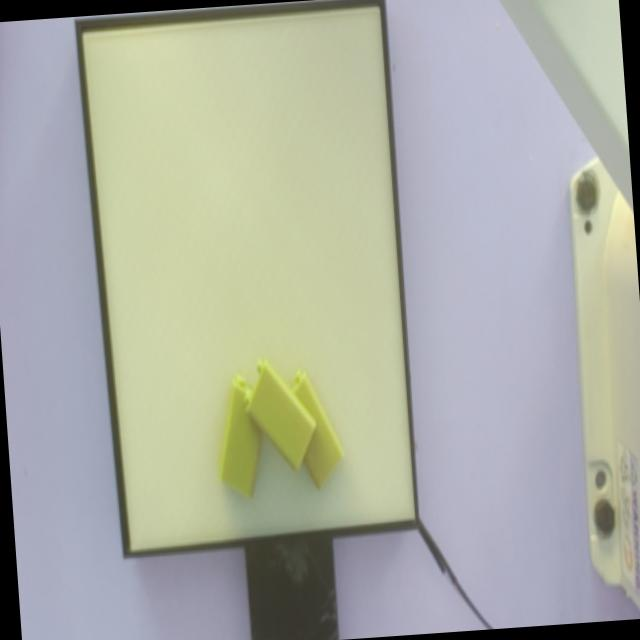bateria: (243, 359, 316, 475)
mesa: (75, 0, 420, 558)
